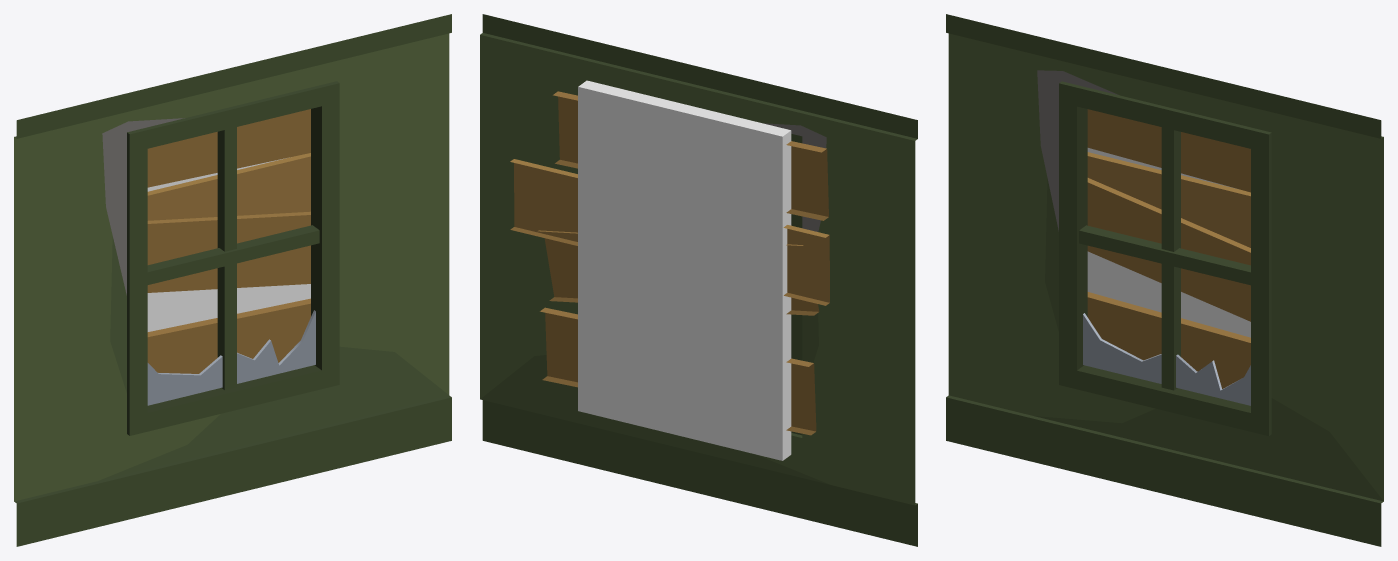
The model's file is AI_Env_Wall_Green_Window_02.fbx.
The picture shows the model from 3 angles, left to right: view 1: azimuth 30°, elevation 25°; view 2: azimuth 150°, elevation 25°; view 3: azimuth 330°, elevation 25°; orthographic projection.
Visible parts, largest first — view 1: AI_Env_Wall_Green_Window_02; view 2: AI_Env_Wall_Green_Window_02; view 3: AI_Env_Wall_Green_Window_02.
Part boxes in pixels (bbox=[...]): AI_Env_Wall_Green_Window_02: bbox=[14, 14, 451, 546]; AI_Env_Wall_Green_Window_02: bbox=[480, 14, 917, 546]; AI_Env_Wall_Green_Window_02: bbox=[946, 14, 1383, 546].
Size of the model in its own units: 5 by 4.69 by 0.3888.
